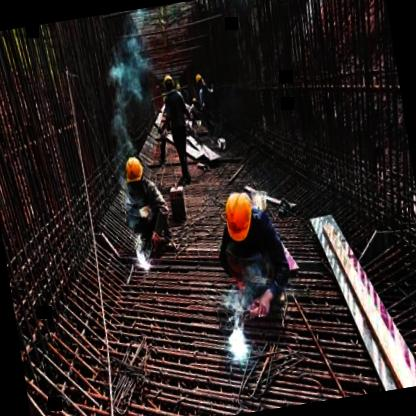helmet: (219, 187, 257, 244), (119, 150, 150, 193), (161, 70, 177, 96)
